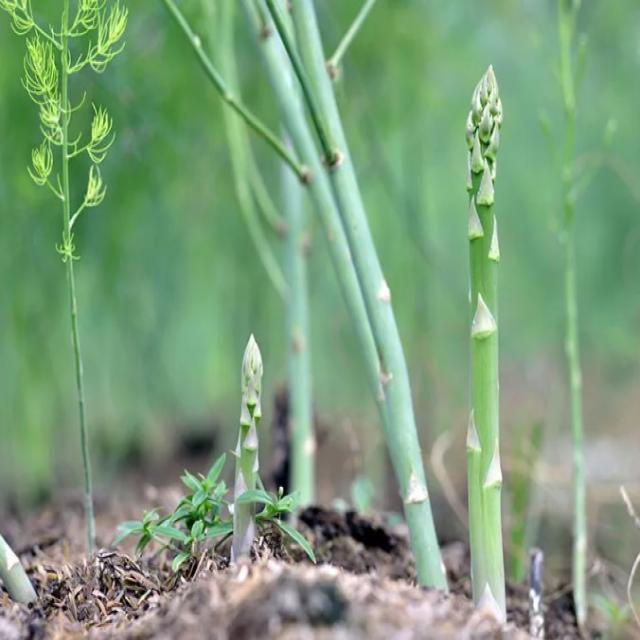aspargus: (466, 70, 509, 619), (233, 336, 265, 577)
